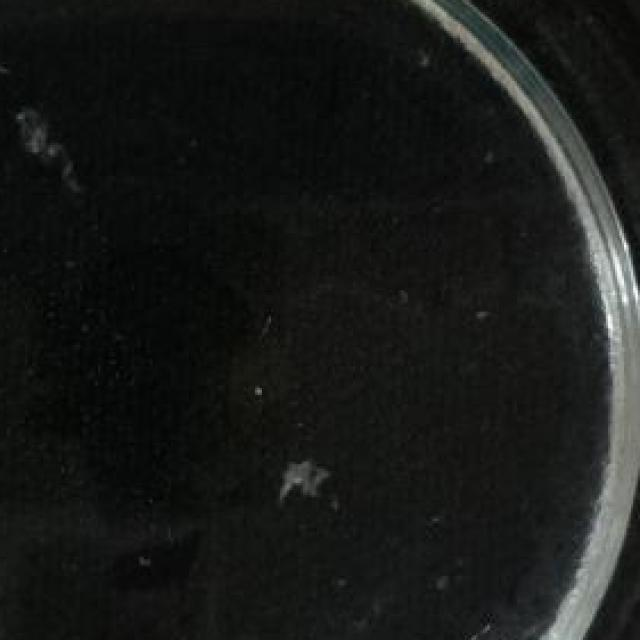Microplastic: (0, 74, 87, 197), (287, 442, 337, 518)
